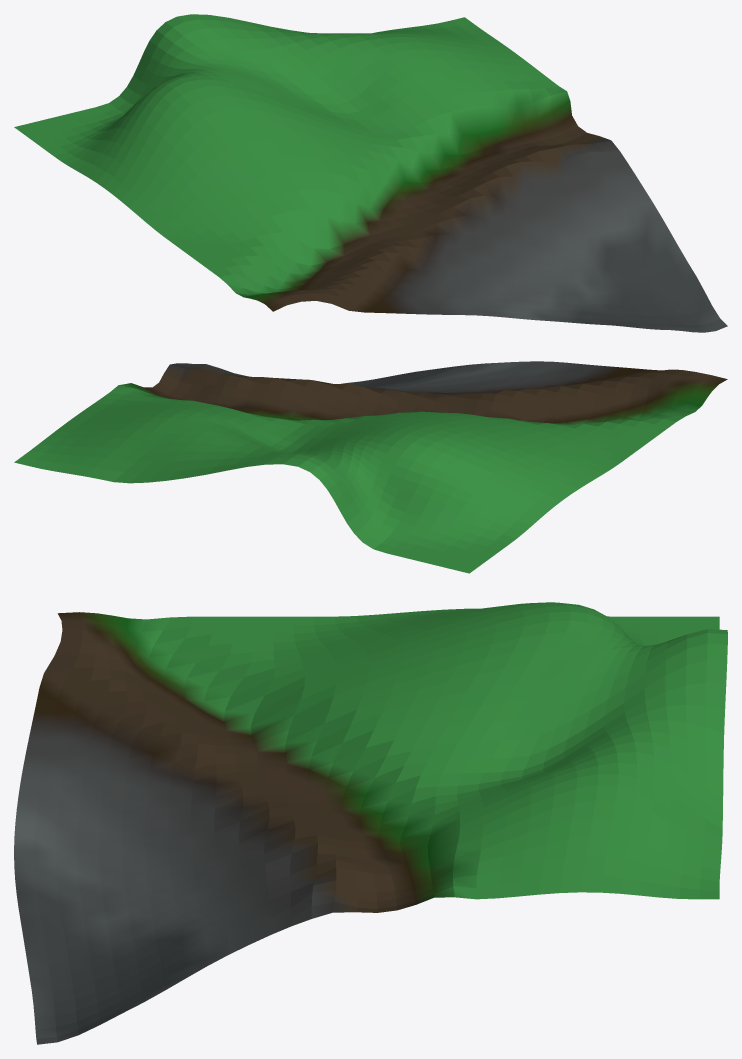
The model's file is chunktest.glb.
3 views of the same model, one above another, from view 1: azimuth 30°, elevation 25°; view 2: azimuth 150°, elevation 25°; view 3: azimuth 270°, elevation 25° (orthographic). The views are drawn at different scales.
Visible parts, largest first — view 1: floor; view 2: floor; view 3: floor.
Boxes of the visible parts, box(x1,y1,x2,y2) form: floor: box(14, 14, 727, 332); floor: box(14, 361, 727, 573); floor: box(14, 602, 727, 1044).
Size of the model in its own units: 64.16 by 24.97 by 68.31.
